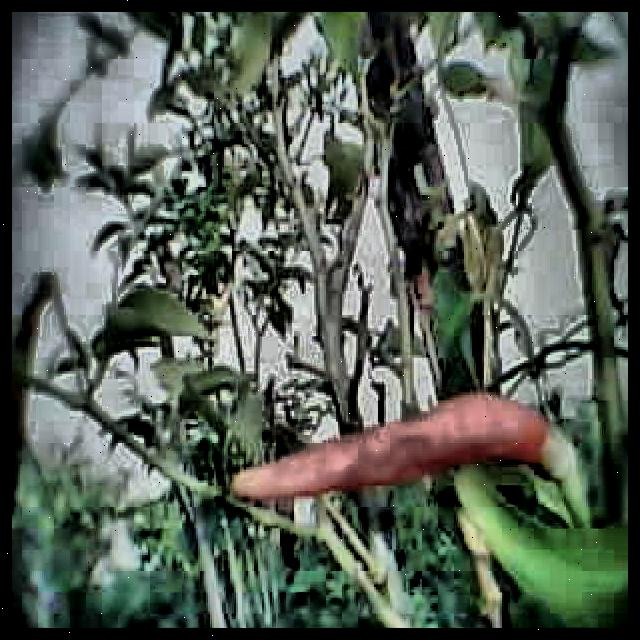Cabai: (235, 390, 596, 499)
